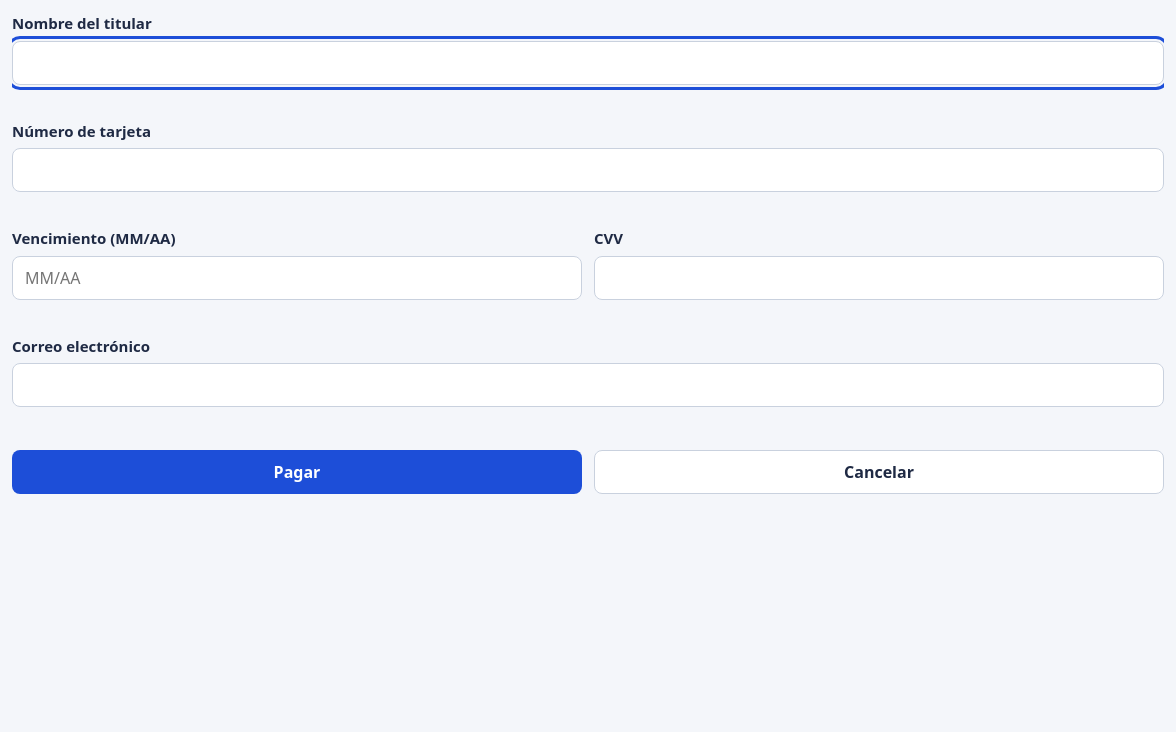
Test: PaymentForm › payment › shows a generic error and re-enables the form when the service fails
The image size is (1176, 732).
Type "Ana Lopez" into the field labelled "Nombre del titular" at (588, 62), box 12,40 -> 1164,84
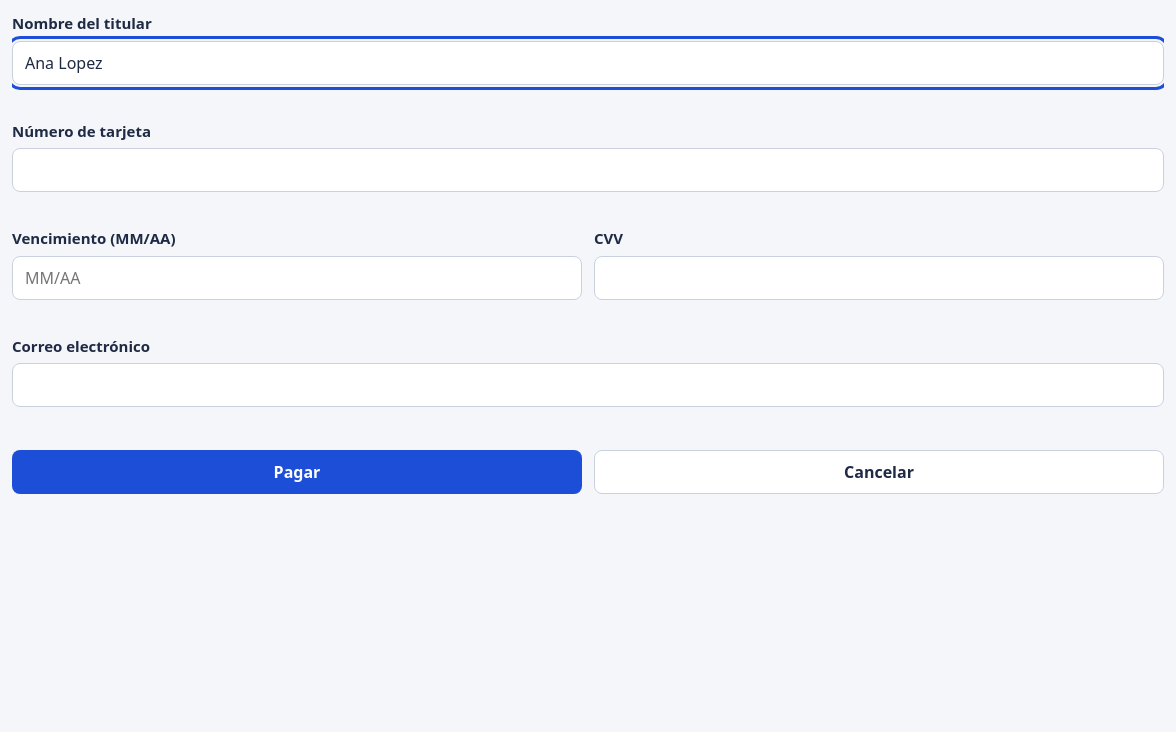
Type "4111111111111111" into the field labelled "Número de tarjeta" at (588, 170), box 12,148 -> 1164,192
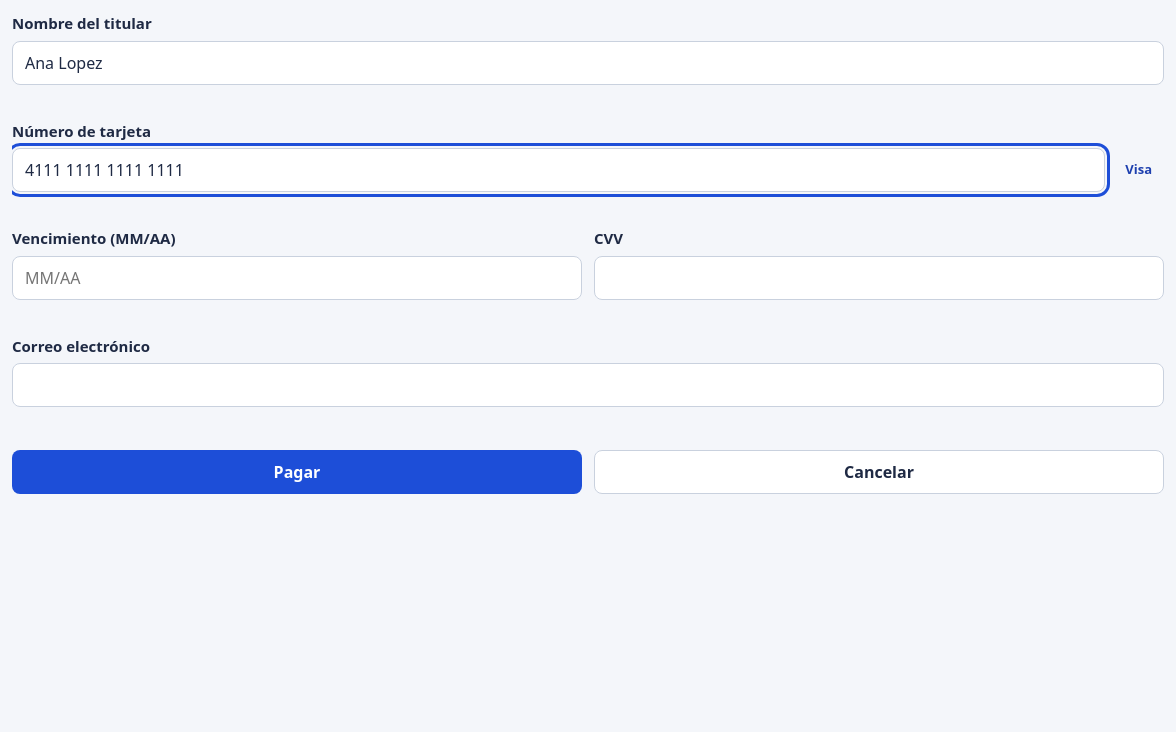
Type "1299" into the field labelled "Vencimiento (MM/AA)" at (297, 278), box 12,256 -> 582,300
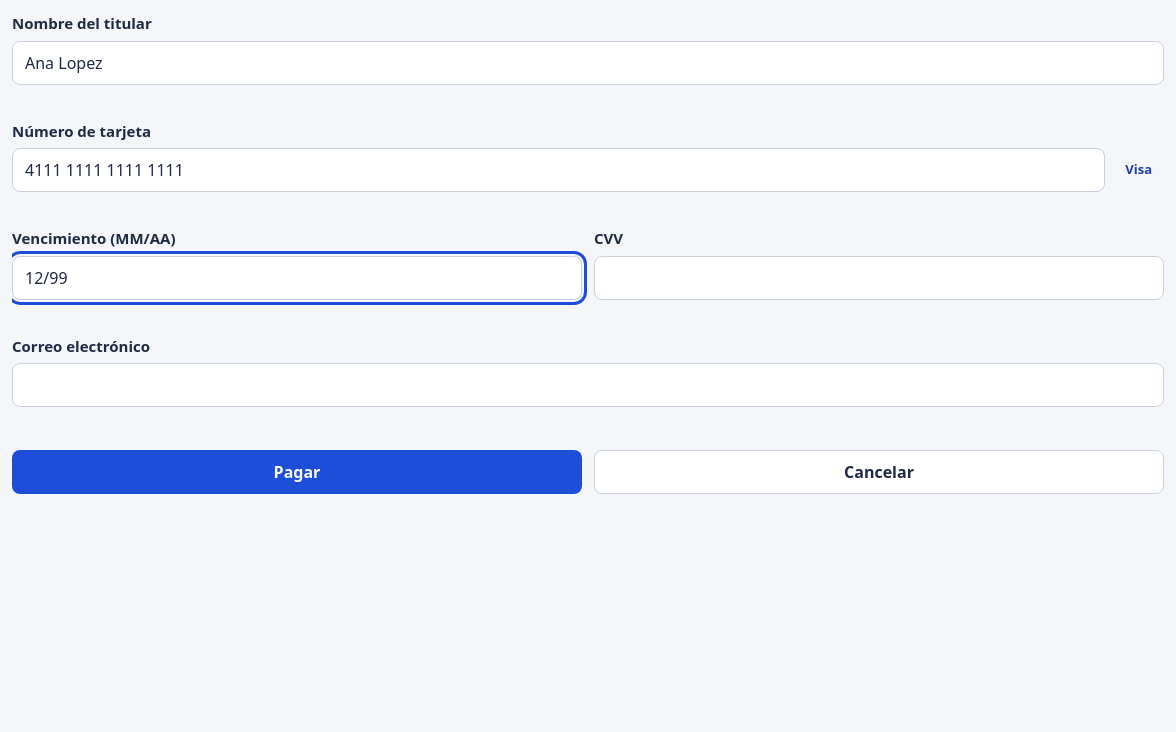
Type "123" into the field labelled "CVV" at (879, 278), box 594,256 -> 1164,300
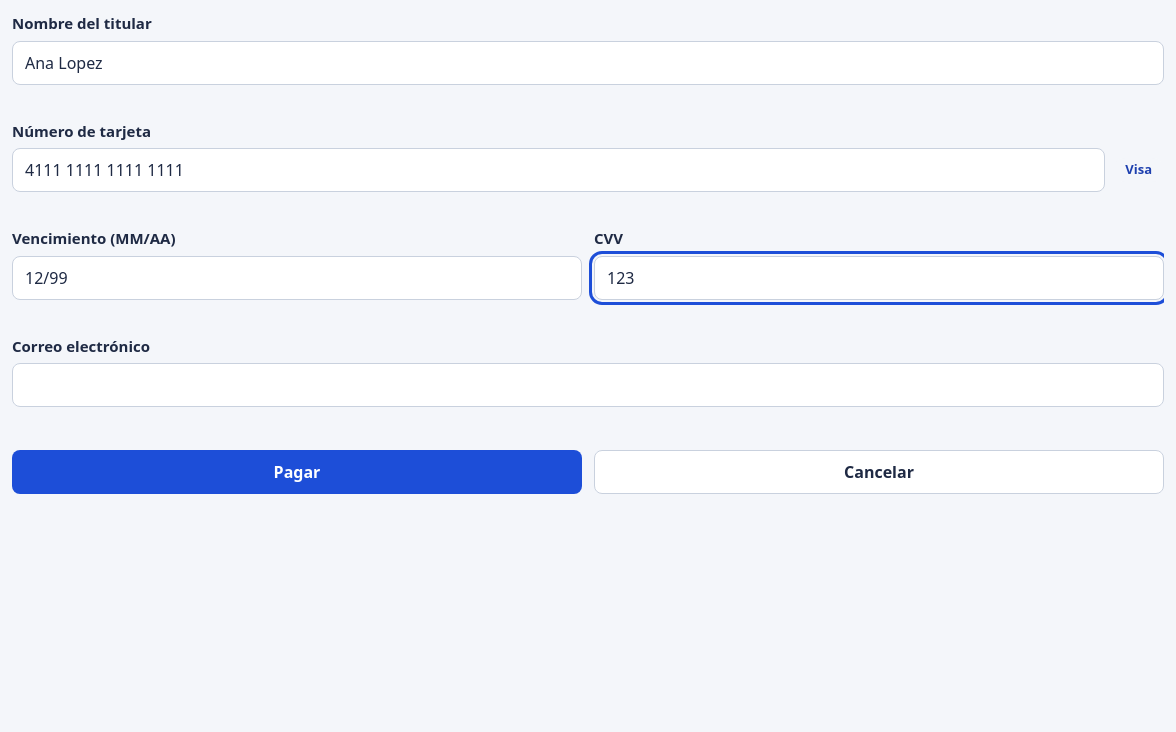
Type "ana@example.com" into the field labelled "Correo electrónico" at (588, 385), box 12,363 -> 1164,407
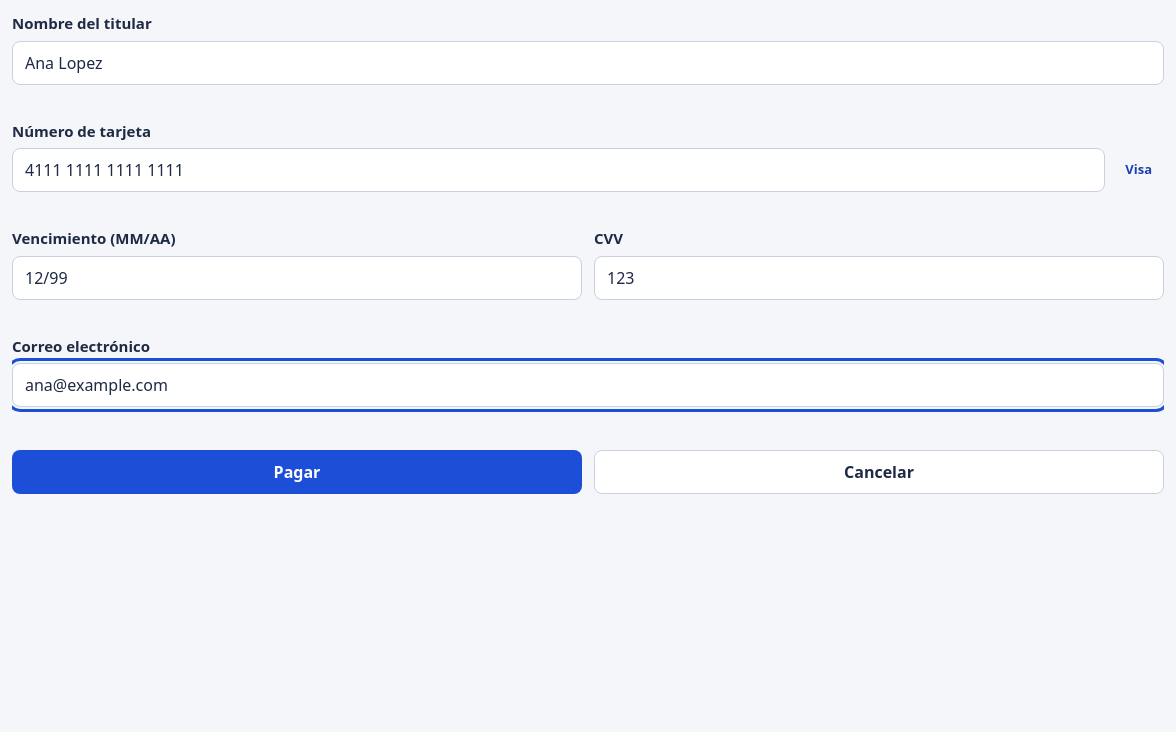
Click the button "Pagar" at (297, 472), box 12,450 -> 582,494
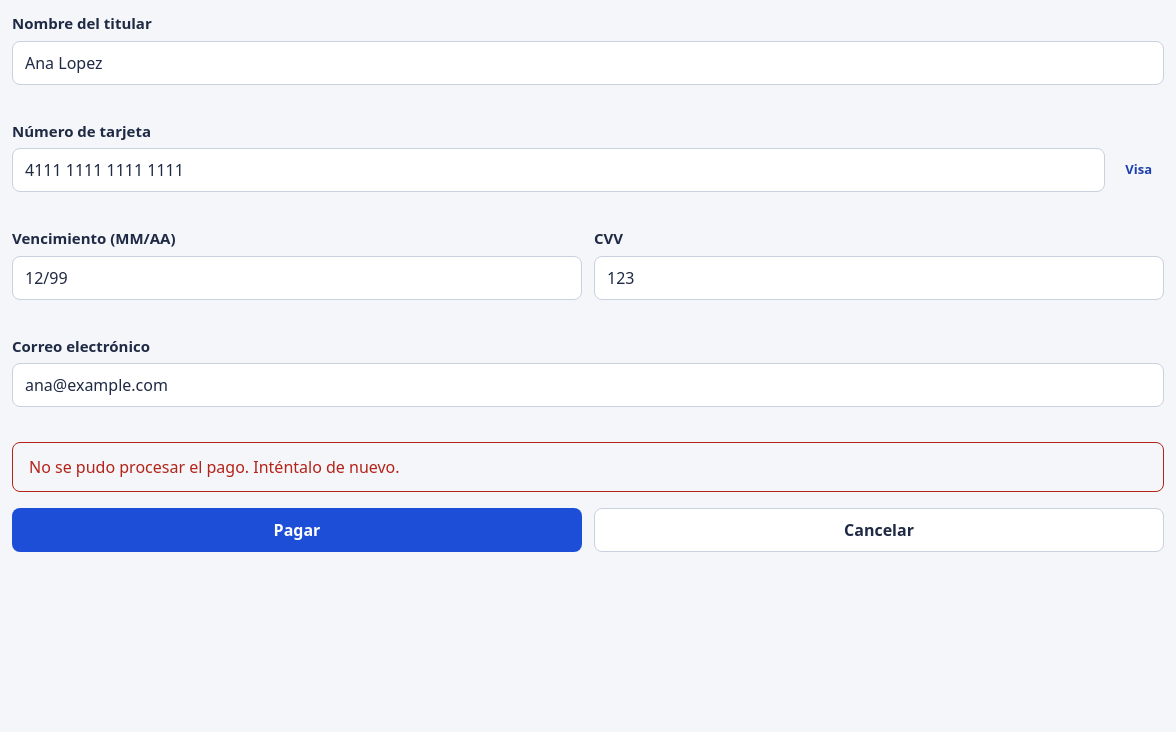
Expected: the button "Pagar" is enabled, 12,508 -> 582,552
Now the text "No se pudo procesar el pago. Inténtalo de nuevo." is shown, box 12,442 -> 1164,492
